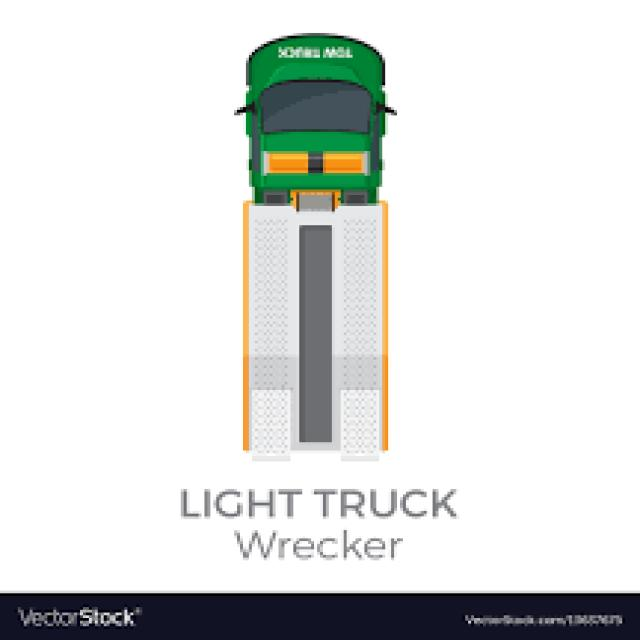truck: (230, 29, 407, 464)
